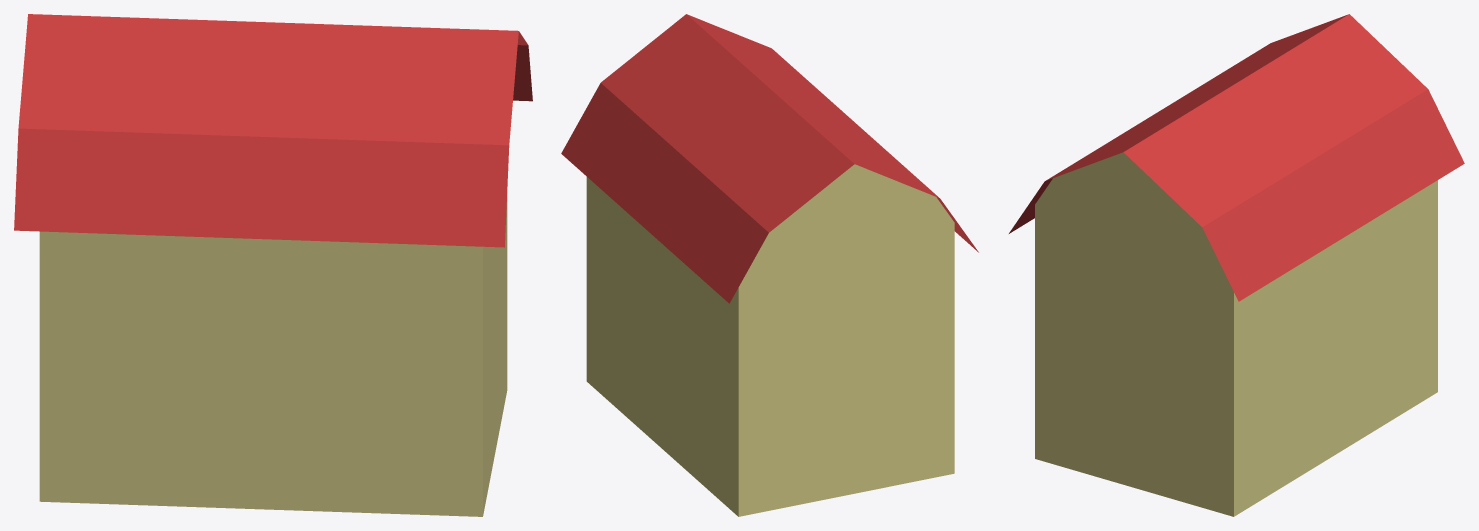
3 views of the same model, side by side, from view 1: azimuth 30°, elevation 25°; view 2: azimuth 150°, elevation 25°; view 3: azimuth 270°, elevation 25° (orthographic). The views are drawn at different scales.
Bounding box in the file's own units: 12.61 × 11.84 × 9.79.
